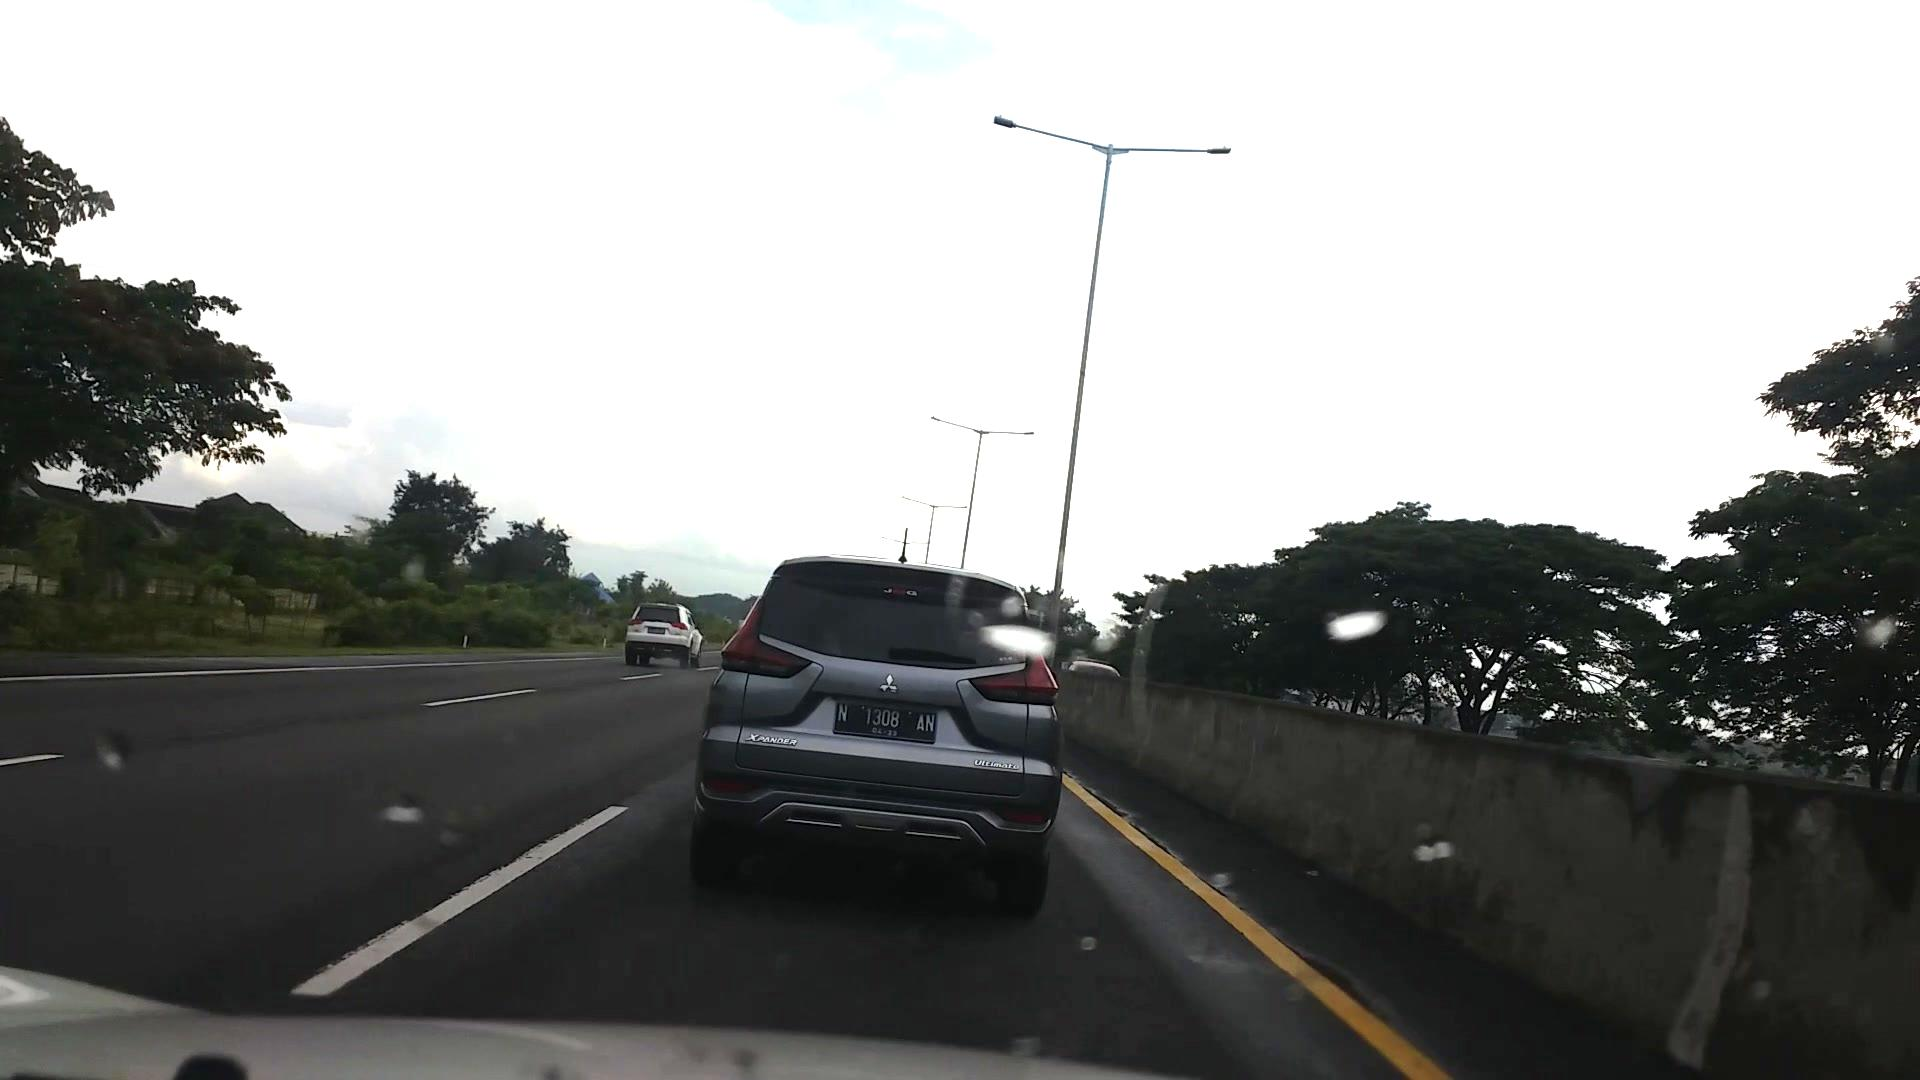plate_positive: (833, 703, 938, 742)
